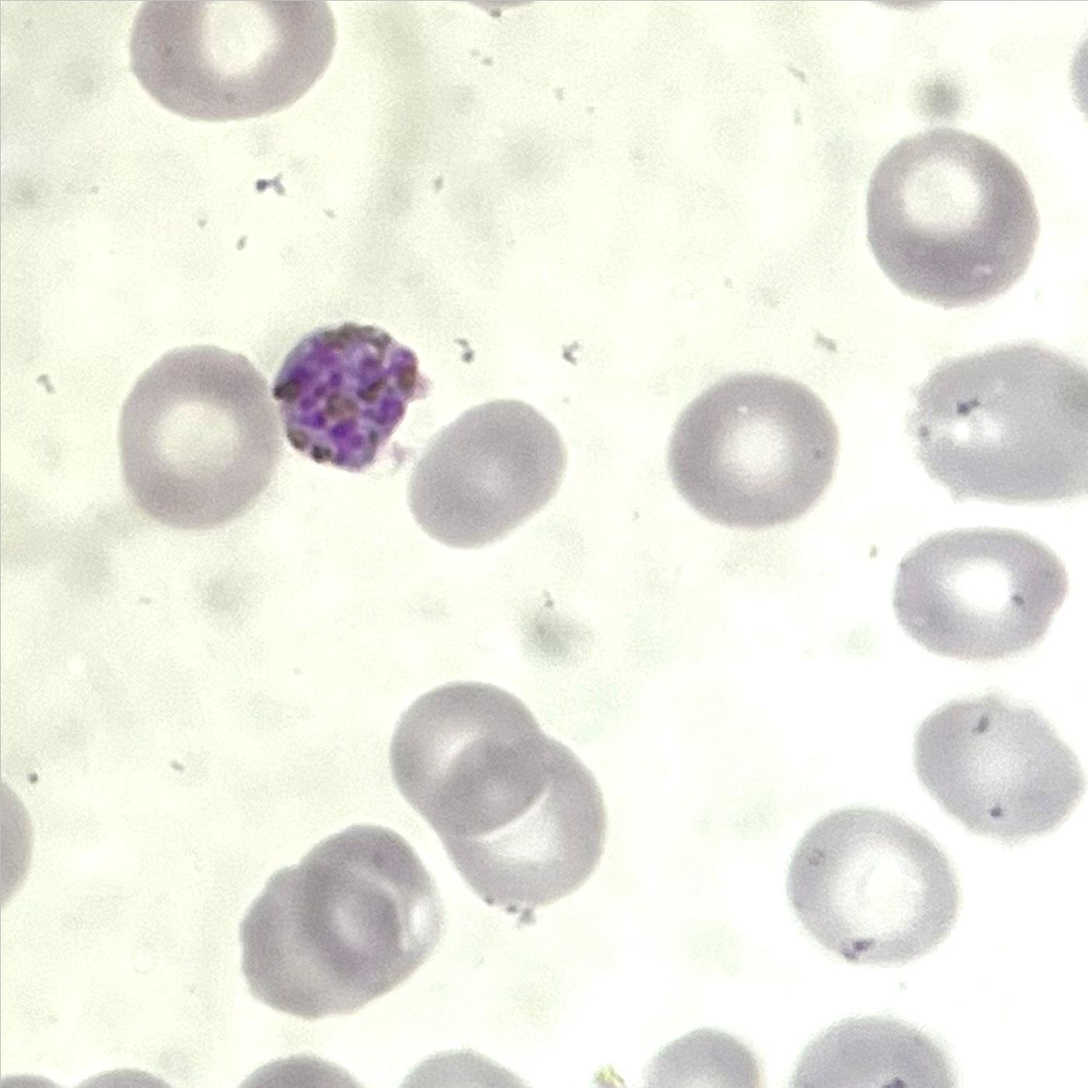Infected: (272, 322, 420, 475)
Uninfected: (866, 125, 1040, 304), (124, 338, 289, 525), (780, 804, 956, 968), (910, 343, 1088, 492), (443, 740, 601, 907), (122, 0, 328, 122), (391, 683, 556, 833), (905, 703, 1088, 833), (288, 823, 439, 980), (669, 374, 826, 523), (410, 390, 560, 542), (244, 869, 401, 1014), (892, 530, 1063, 662)
